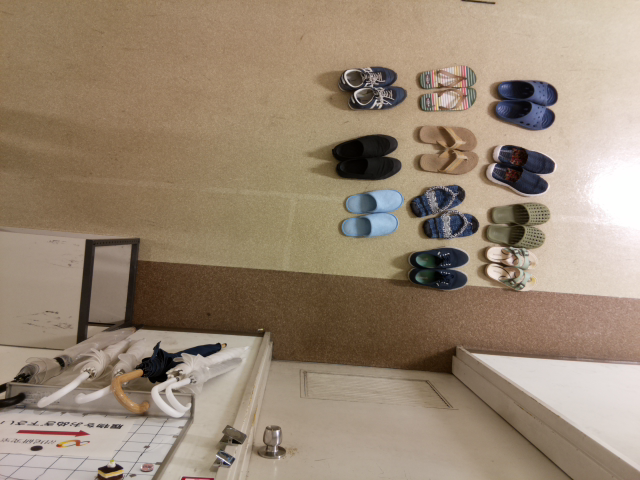Copy of Copy of Copy of Copy of Copy of Copy of Copy of Copy of Copy of Copy of: (402, 181, 473, 217), (330, 151, 404, 183), (328, 130, 402, 162), (336, 61, 403, 94), (413, 142, 481, 174), (420, 207, 479, 243), (411, 118, 479, 149), (406, 241, 471, 272), (404, 263, 469, 294), (337, 209, 402, 240), (343, 187, 407, 217), (345, 85, 407, 114)
Copy of Copy of Copy of Copy of Copy of Copy of Copy of Copy of Copy of shoe: (415, 83, 483, 114)
Copy of Copy of Copy of Copy of Copy of Copy of Copy of Copy of shoe: (414, 62, 481, 93)
Copy of Copy of Copy of Copy of Copy of Copy of Copy of shoe: (490, 75, 562, 111)
Copy of Copy of Copy of Copy of Copy of Copy of shoe: (488, 98, 560, 134)
Copy of Copy of Copy of Copy of Copy of shoe: (486, 140, 559, 177)
Copy of Copy of Copy of Copy of shoe: (481, 159, 552, 199)
Copy of Copy of Copy of shoe: (485, 199, 551, 230)
Copy of Copy of shoe: (481, 220, 547, 250)
Copy of shoe: (481, 240, 540, 275)
shoe: (479, 261, 538, 295)
